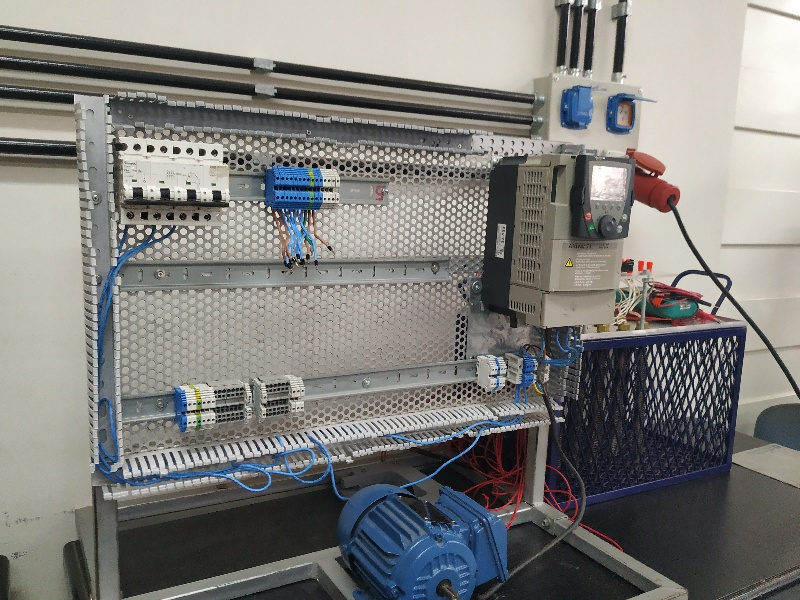Tablero 0: (98, 102, 632, 445)
